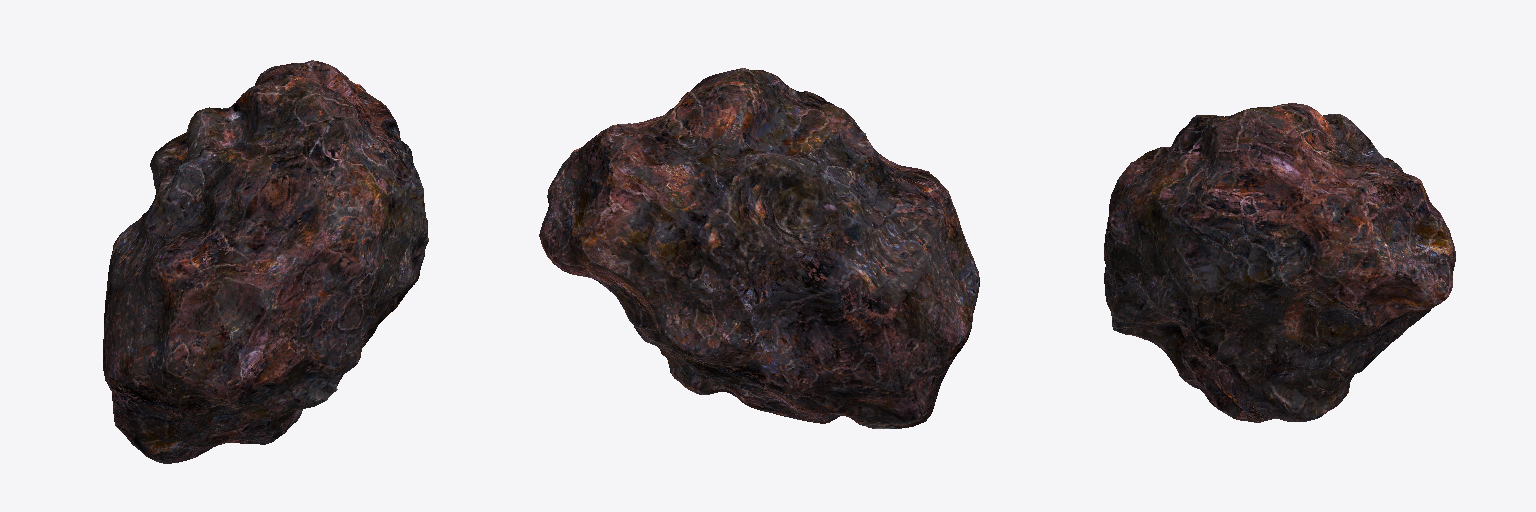
The picture shows the model from 3 angles: view 1: azimuth 30°, elevation 25°; view 2: azimuth 150°, elevation 25°; view 3: azimuth 270°, elevation 25°; orthographic projection.
Visible parts, largest first — view 1: ASTEROID_LOW_POLY_4__asteroid_04; view 2: ASTEROID_LOW_POLY_4__asteroid_04; view 3: ASTEROID_LOW_POLY_4__asteroid_04.
Part boxes in pixels (left/top/right/bottom): ASTEROID_LOW_POLY_4__asteroid_04: left=103, top=60, right=428, bottom=463; ASTEROID_LOW_POLY_4__asteroid_04: left=539, top=68, right=979, bottom=428; ASTEROID_LOW_POLY_4__asteroid_04: left=1104, top=103, right=1455, bottom=422.
Bounding box in the file's own units: 1.56 × 1.47 × 1.41.
Materials: 1 (1 with a texture image).